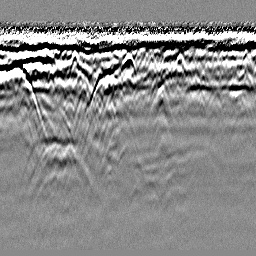cavity: (119, 50, 136, 74)
